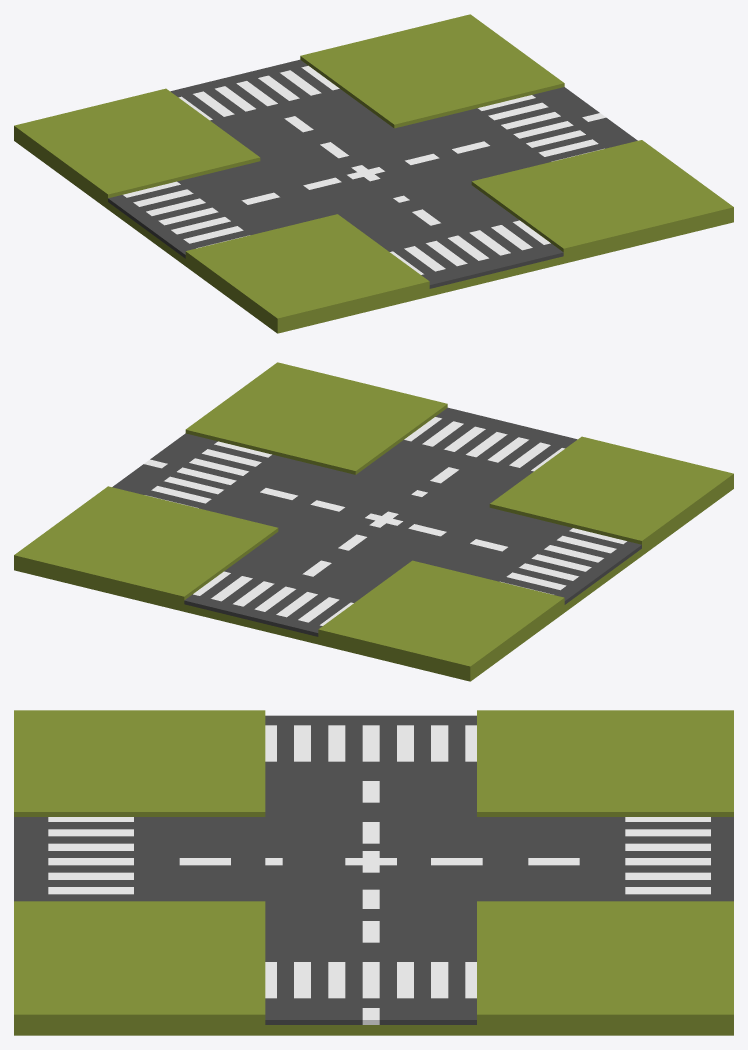
File: перекресток.obj
3 renders of one model, top to bottom at view 1: azimuth 30°, elevation 25°; view 2: azimuth 150°, elevation 25°; view 3: azimuth 270°, elevation 25°, orthographic. The views are drawn at different scales.
Size of the model in its own units: 12.6 by 0.4 by 12.6.
Materials: 1 (1 with a texture image).
